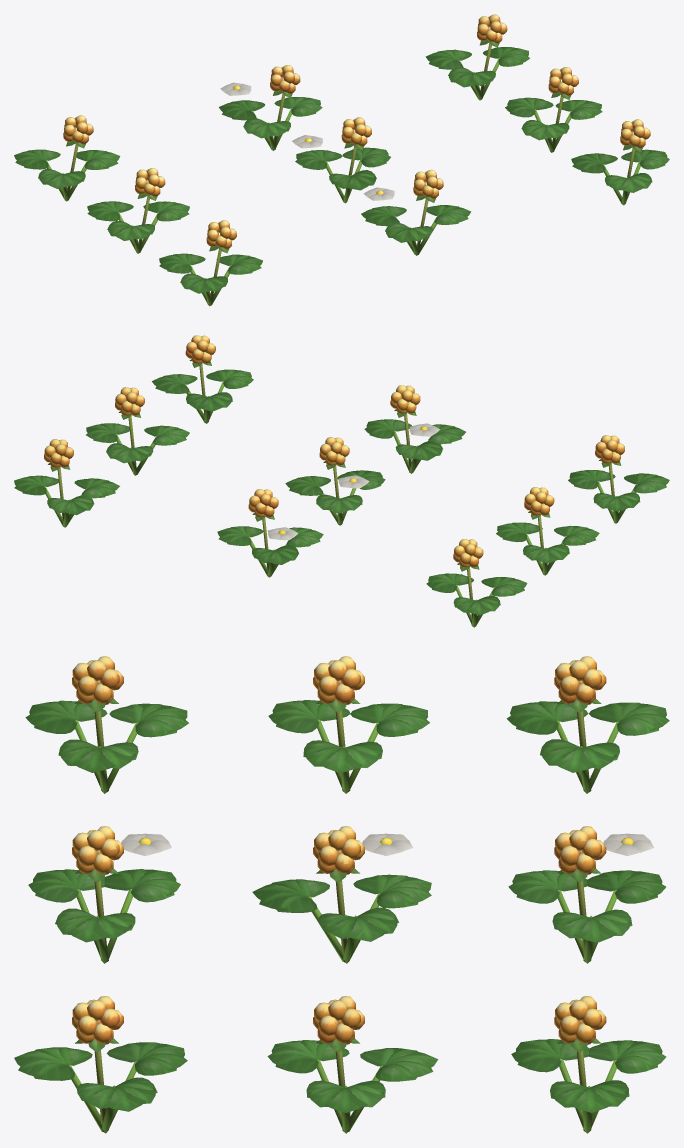
File: crop_cloudberry.glb
The picture shows the model from 3 angles, top to bottom: view 1: azimuth 30°, elevation 25°; view 2: azimuth 150°, elevation 25°; view 3: azimuth 270°, elevation 25°; orthographic projection. The views are drawn at different scales.
Parts seen in each view (by area): view 1: P0_leaf, P3_leaf, P5_leaf, P6_leaf, P1_leaf, P4_leaf, P2_leaf, P8_leaf, P7_leaf, P4_fruit0, P7_fruit0, P8_fruit0 (+6 smaller); view 2: P5_leaf, P2_leaf, P8_leaf, P3_leaf, P6_leaf, P0_leaf, P7_leaf, P1_leaf, P4_leaf, P1_fruit0, P0_fruit0, P2_fruit0 (+6 smaller); view 3: P2_leaf, P4_leaf, P6_leaf, P0_leaf, P7_leaf, P3_leaf, P5_leaf, P1_leaf, P8_leaf, P2_fruit0, P7_fruit0, P8_fruit0 (+9 smaller).
Part boxes in pixels (x1,y1,x2,y2): P0_leaf: (159,249,262,306); P3_leaf: (87,196,189,253); P5_leaf: (505,95,602,152); P6_leaf: (14,144,120,201); P1_leaf: (361,198,471,255); P4_leaf: (295,146,390,203); P2_leaf: (571,148,669,205); P8_leaf: (425,43,529,100); P7_leaf: (219,93,322,150); P4_fruit0: (341,117,371,150); P7_fruit0: (270,65,300,97); P8_fruit0: (477,14,507,47); P5_leaf: (86,415,189,475); P2_leaf: (152,364,253,423); P8_leaf: (14,467,119,527); P3_leaf: (496,515,599,575); P6_leaf: (426,567,527,627); P0_leaf: (568,463,669,523); P7_leaf: (217,517,323,577); P1_leaf: (364,414,465,473); P4_leaf: (285,465,385,525); P1_fruit0: (390,385,420,417); P0_fruit0: (595,435,624,467); P2_fruit0: (185,335,215,367); P2_leaf: (14,1042,187,1133); P4_leaf: (252,874,431,963); P6_leaf: (506,701,669,793); P0_leaf: (25,700,188,793); P7_leaf: (508,870,665,963); P3_leaf: (268,700,429,793); P5_leaf: (267,1040,438,1133); P1_leaf: (28,869,180,963); P8_leaf: (511,1039,666,1133); P2_fruit0: (72,996,123,1052); P7_fruit0: (554,826,606,882); P8_fruit0: (554,996,606,1052).
Size of the model in its own units: 1.22 by 0.1938 by 0.8161.
Materials: 1 (1 with a texture image).
